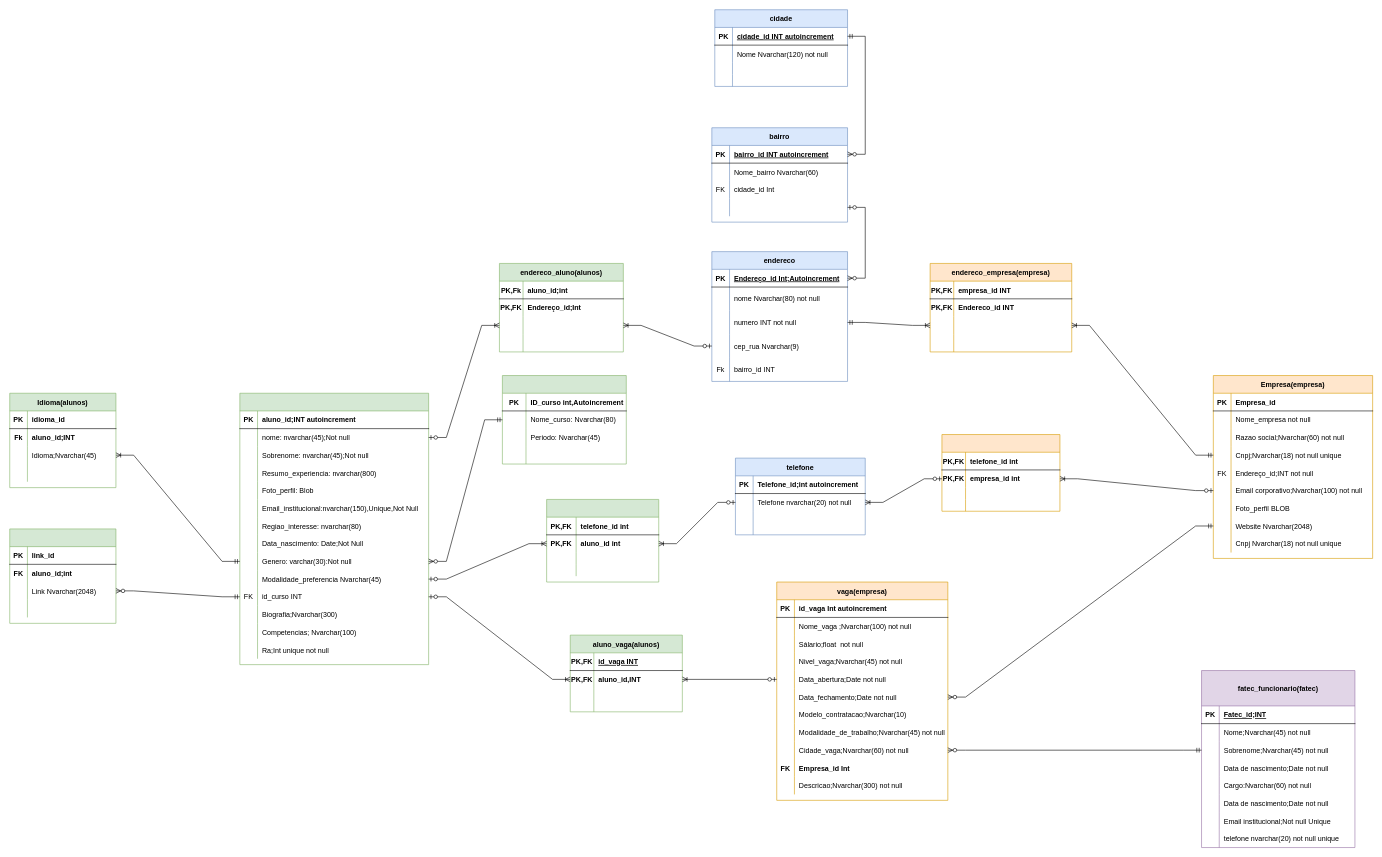
The diagram is 1382 pixels wide and 857 high, and some of its shapes have lost their labels. Each missing label, with the box of its shape:
aluno(alunos): (239, 393, 429, 665)
curso(alunos): (502, 375, 626, 464)
Link(alunos): (9, 528, 116, 623)
telefone_aluno(alunos): (546, 499, 659, 582)
telefone_empresa(empresa): (941, 434, 1060, 511)
